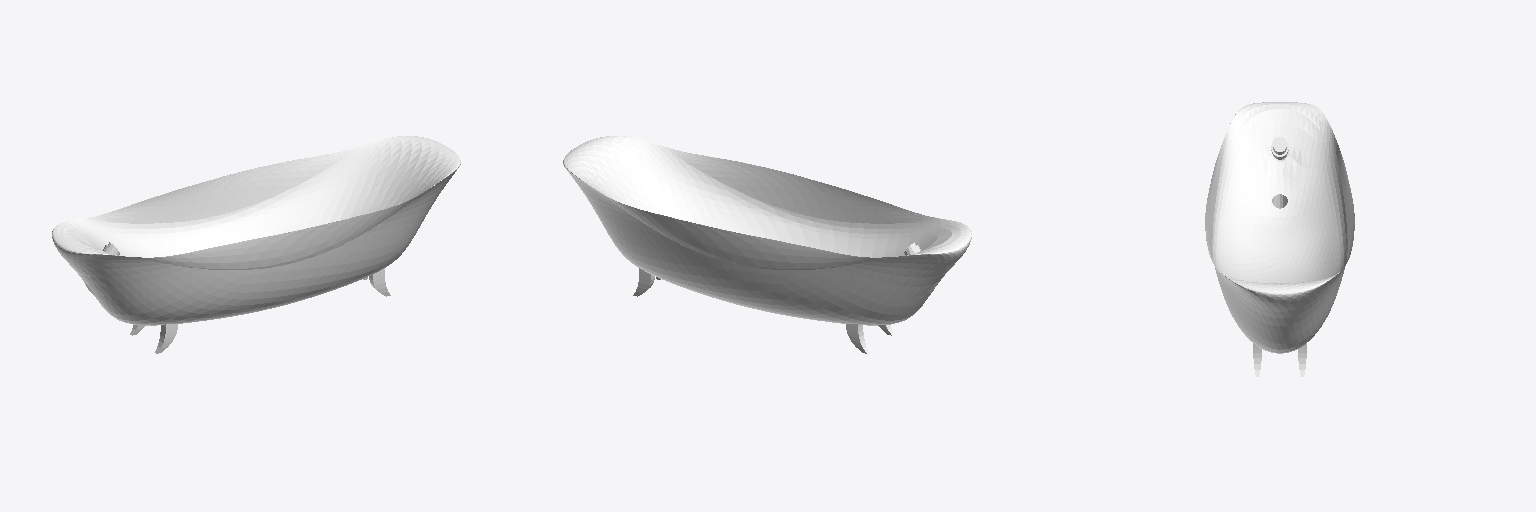
Rendered from VANNA.obj.
3 views of the same model, side by side, from view 1: azimuth 30°, elevation 25°; view 2: azimuth 150°, elevation 25°; view 3: azimuth 270°, elevation 25° (orthographic).
Parts seen in each view (by area): view 1: Cylinder002; view 2: Cylinder002; view 3: Cylinder002.
Boxes of the visible parts, <box> form: Cylinder002: <box>52,136,460,353</box>; Cylinder002: <box>563,136,971,353</box>; Cylinder002: <box>1205,102,1354,376</box>.
Size of the model in its own units: 389 by 115 by 128.